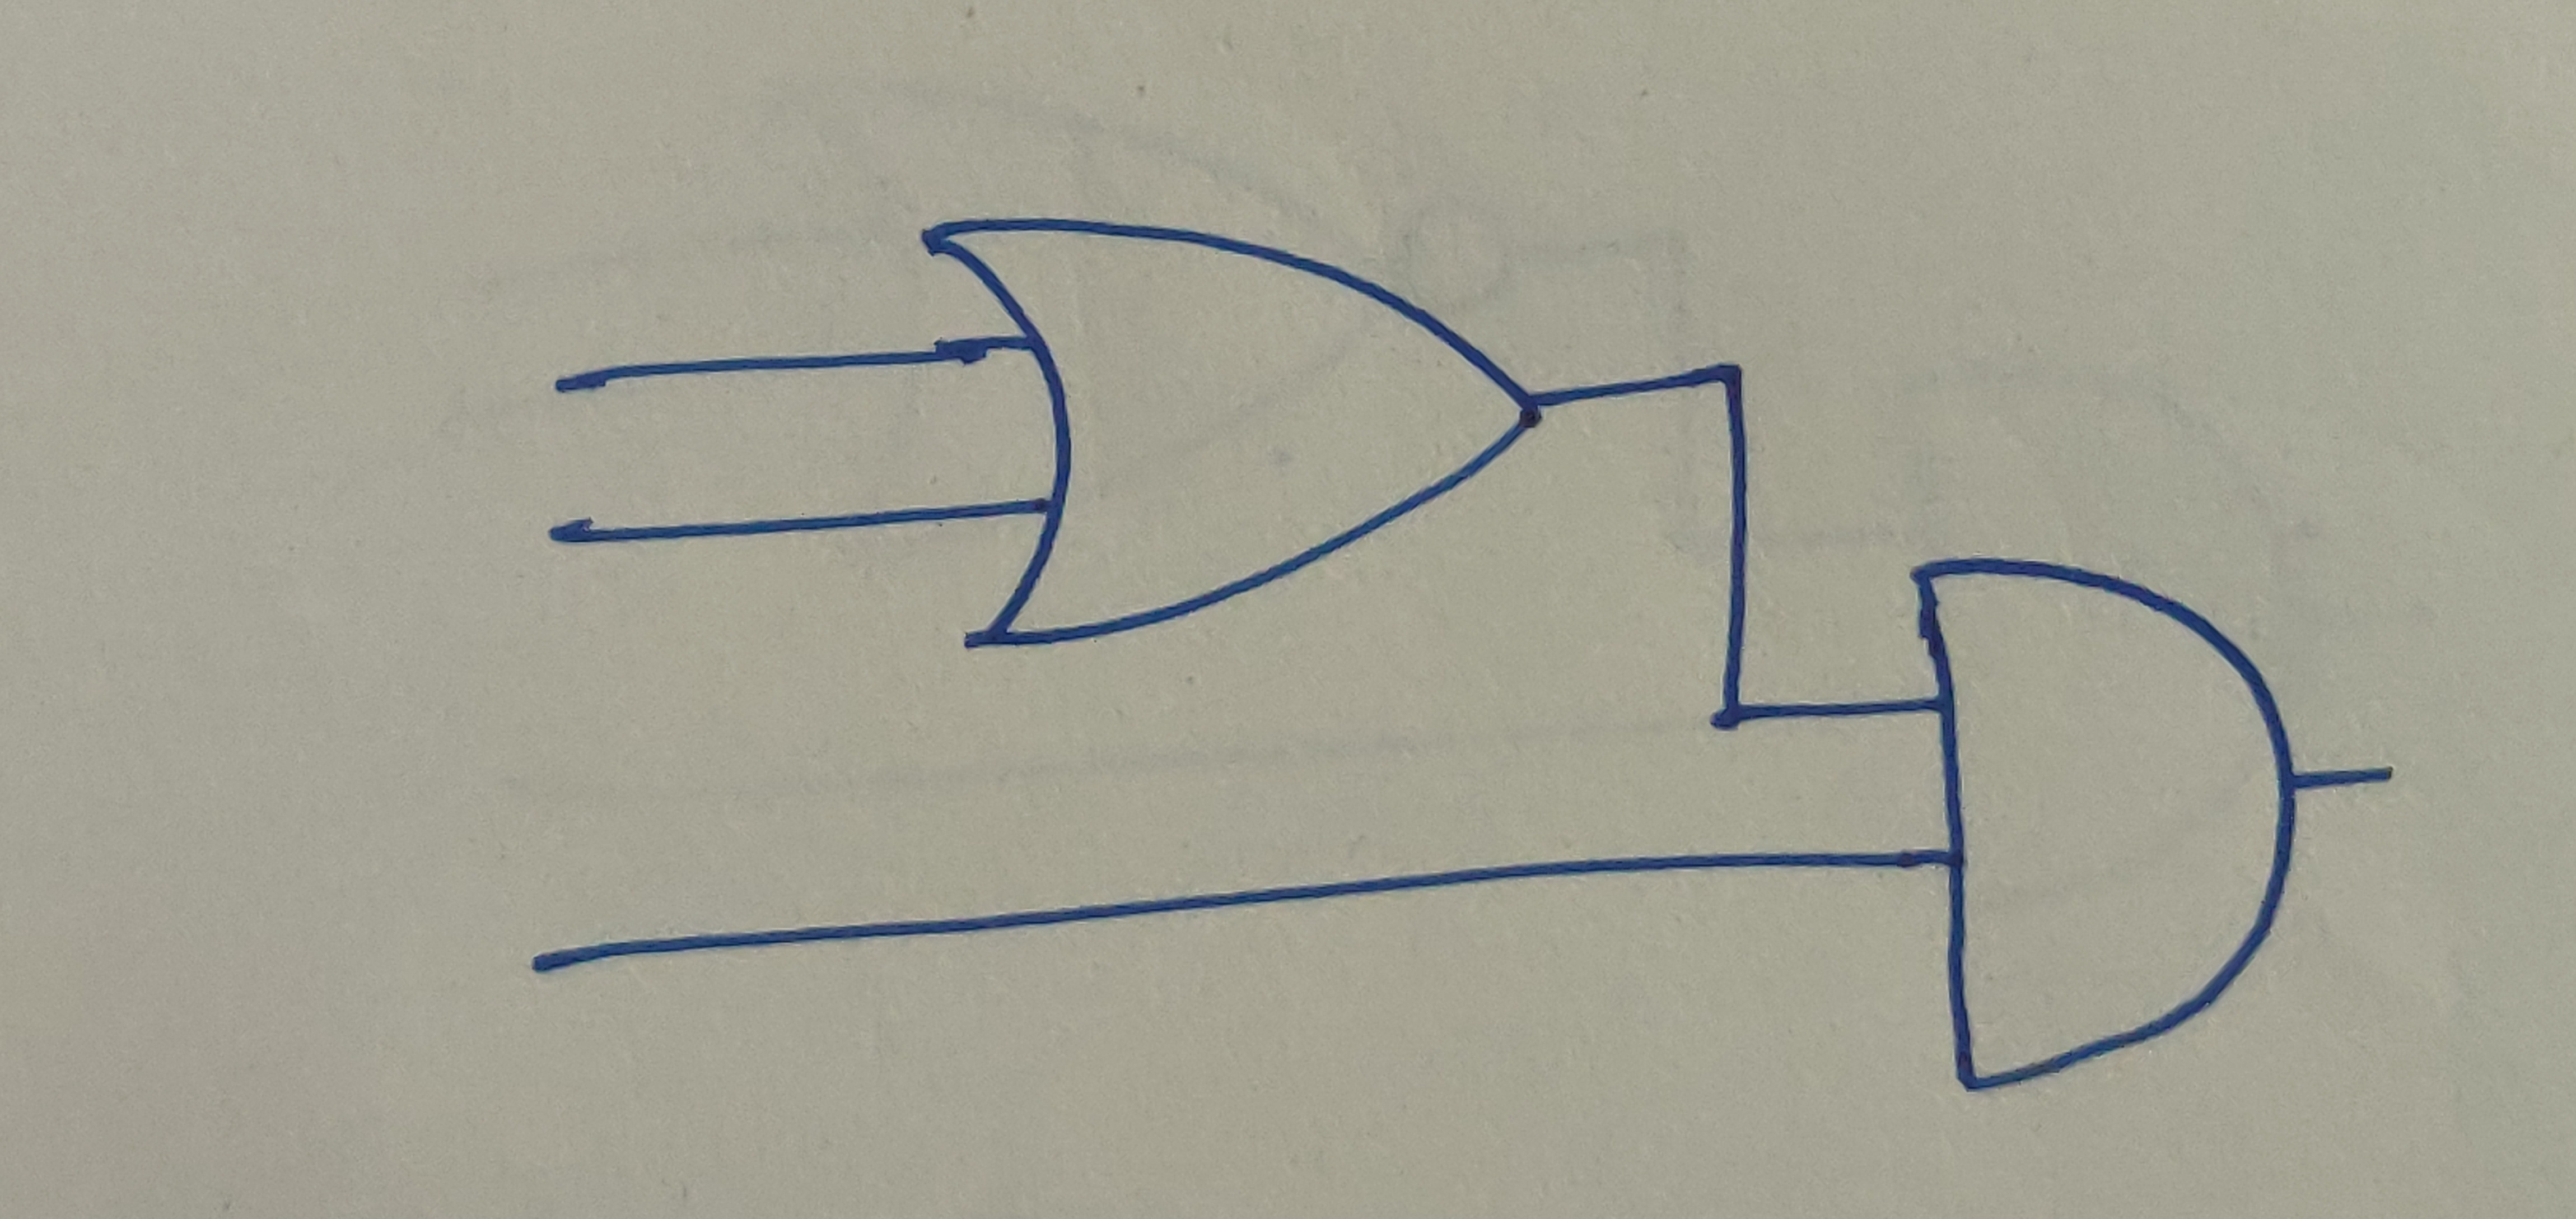and: (1911, 554, 2312, 1101)
or: (918, 210, 1541, 659)
